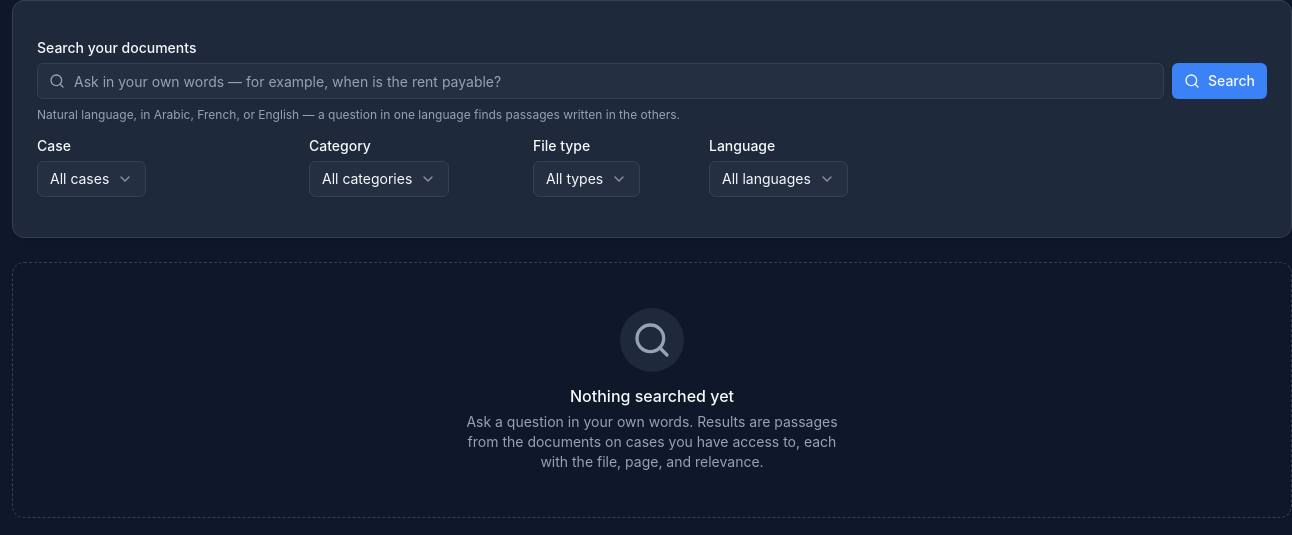
Test: SemanticSearch › renders the ranked passages once submitted
Type "loyer payable d'avance" into the search field labelled "Search your documents" at (600, 81), box [37,63,1164,99]
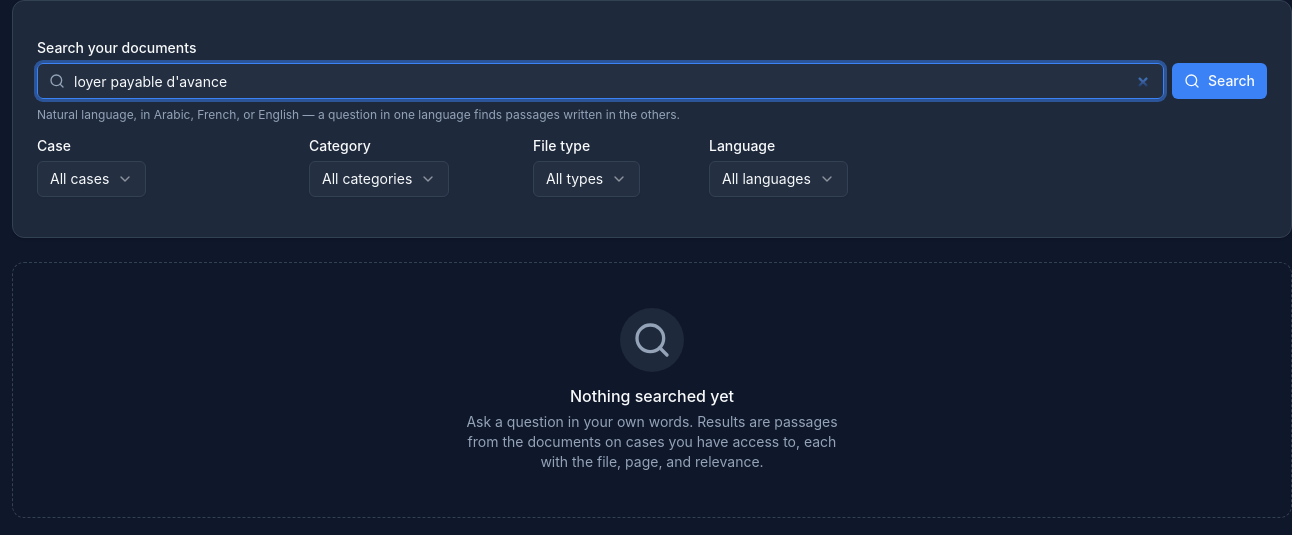
Click the button "Search" at (1220, 81), box [1172,63,1267,99]
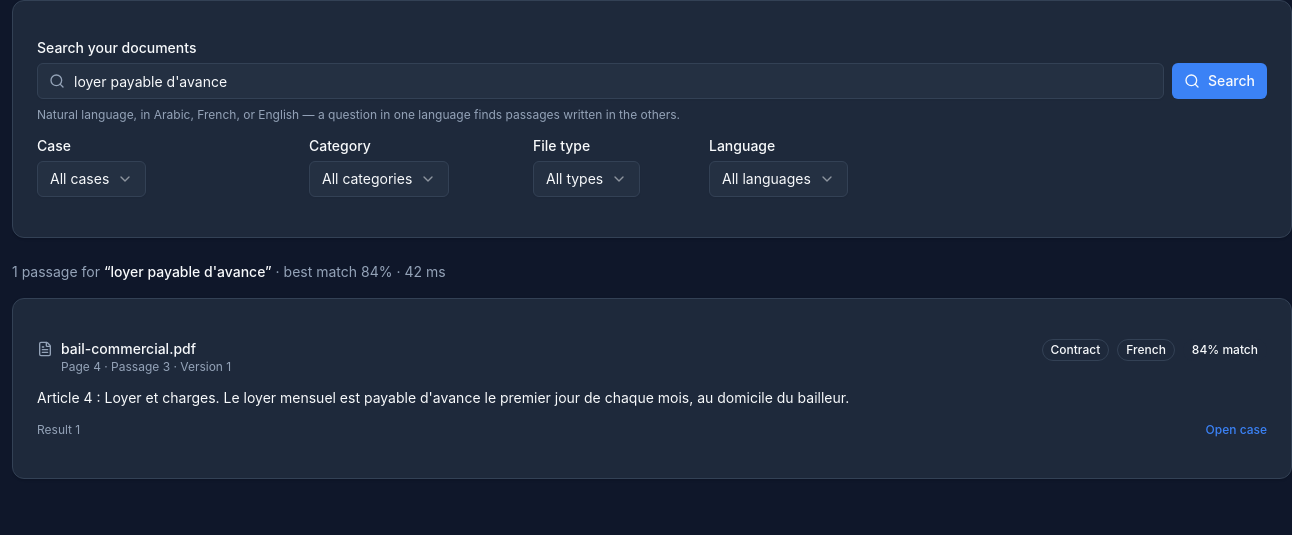
expect the text "bail-commercial.pdf" is shown: met, box [61,340,196,357]
expect the text "1 passage for" is shown: met, box [12,263,100,280]
